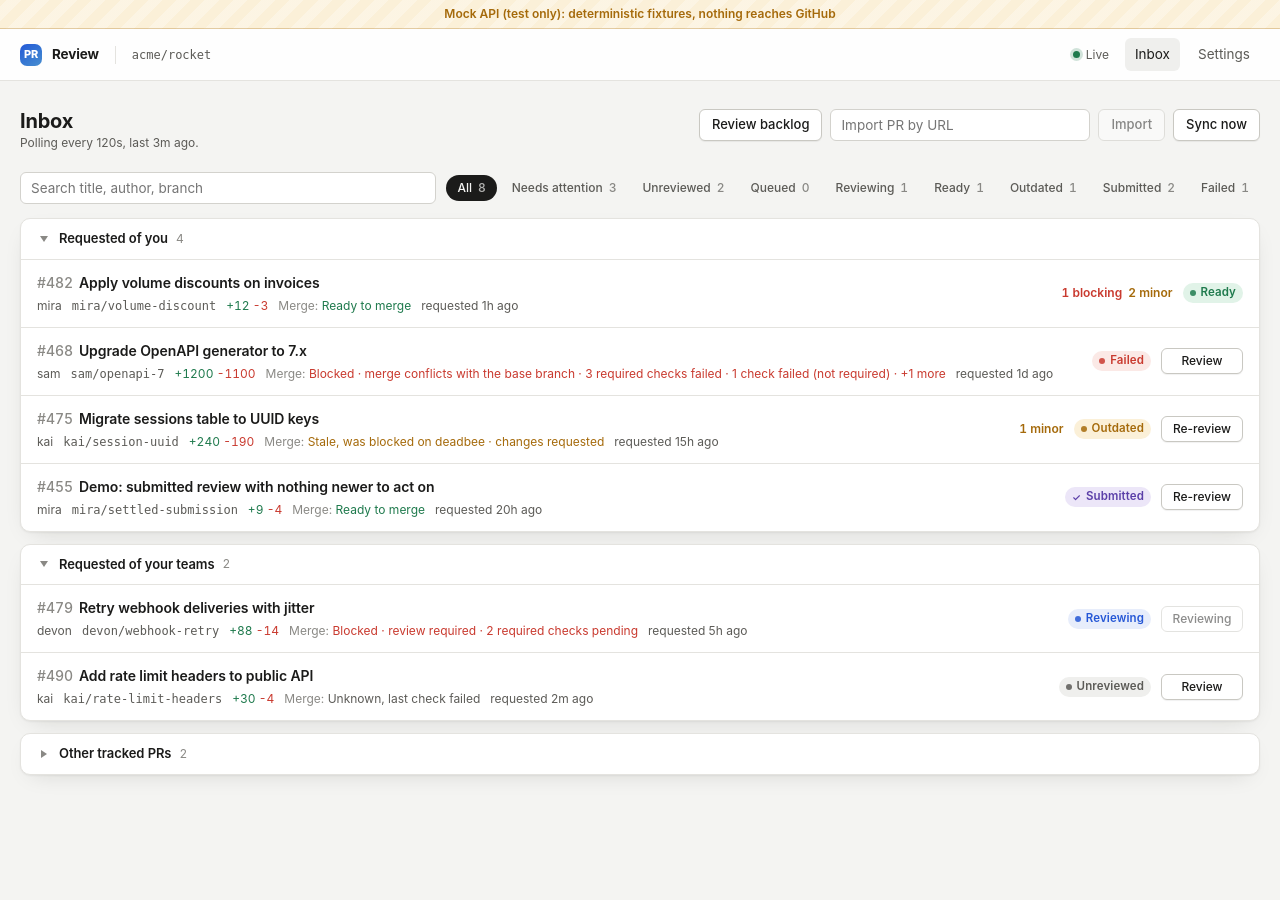
Test case: inbox › lists pull requests and filters by search and status
expect the link "#482Apply volume discounts on invoices" is shown: met, box [37,274,320,290]
expect the text "Mock API (test only)" is shown: met, box [444,6,836,21]
Click the button "Needs attention 3" at (564, 188), box [501,175,627,201]
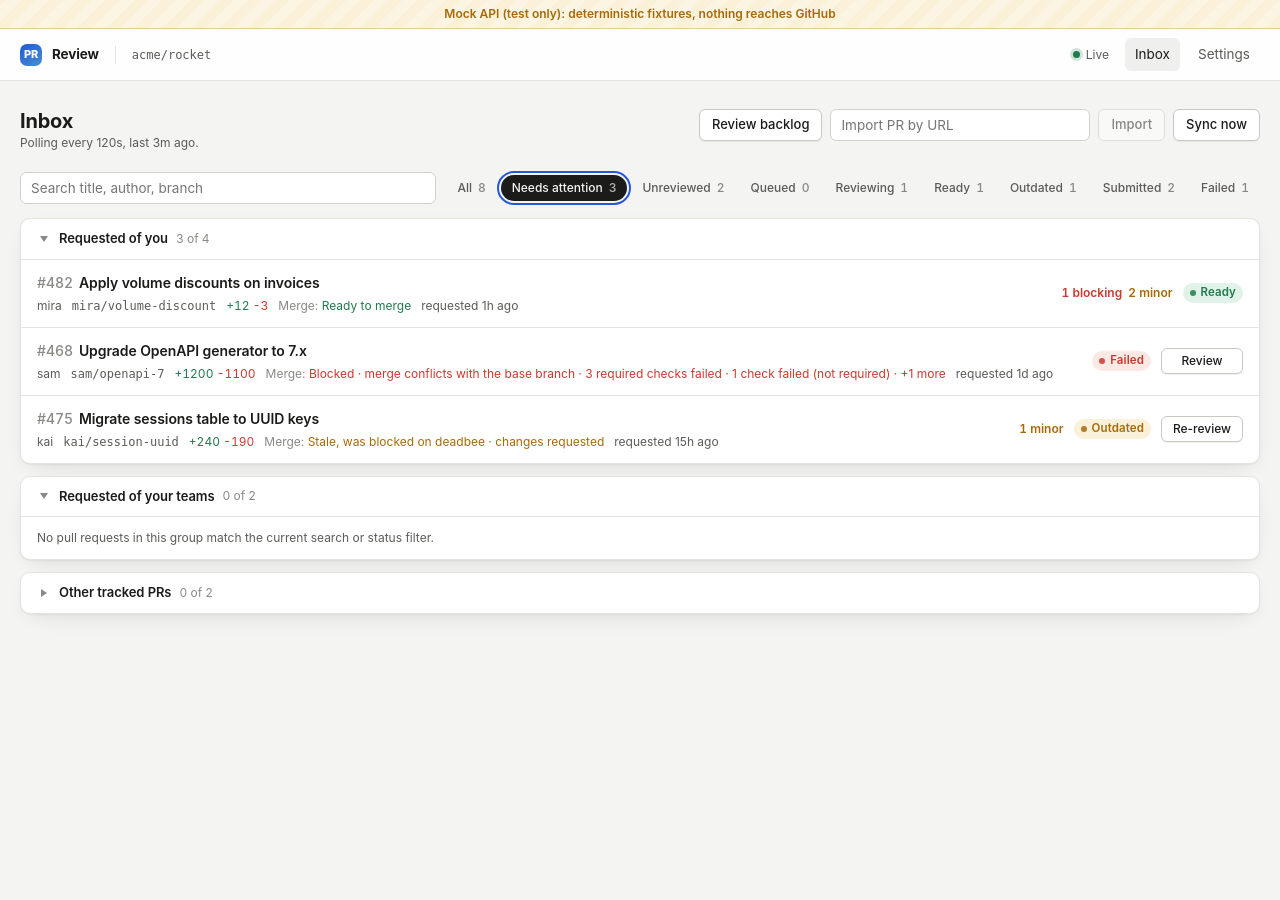
expect the link "Retry webhook deliveries with jitter" is gone: met
Type "sessions" into the search field at (228, 188), box [20,172,436,204]
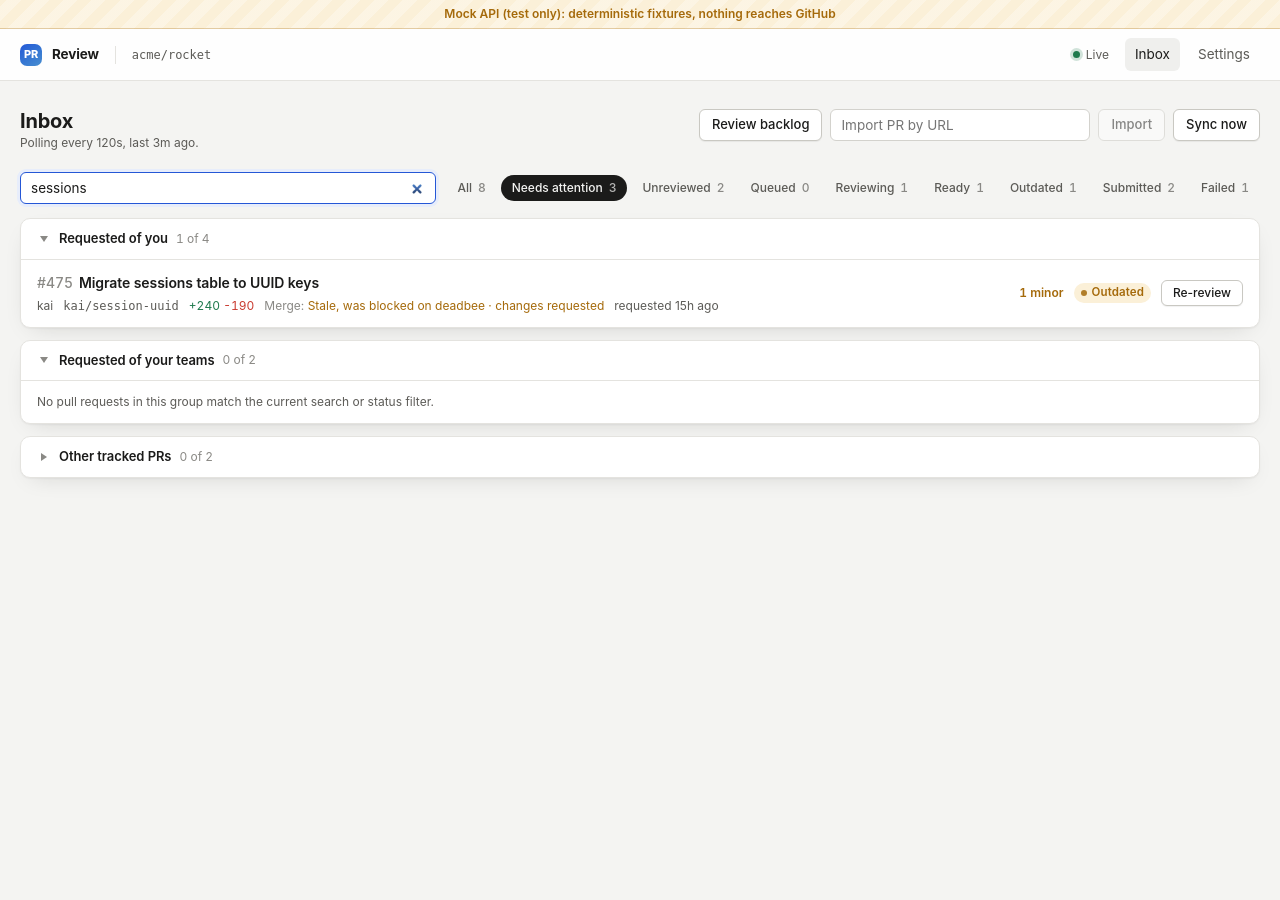
expect the link "#475Migrate sessions table to UUID keys" is shown: met, box [37,274,319,290]
expect the text "No pull requests in this group match the current search or status filter." is shown 2 times: met
expect the number of list items is 1: met, box [37,274,1243,312]
